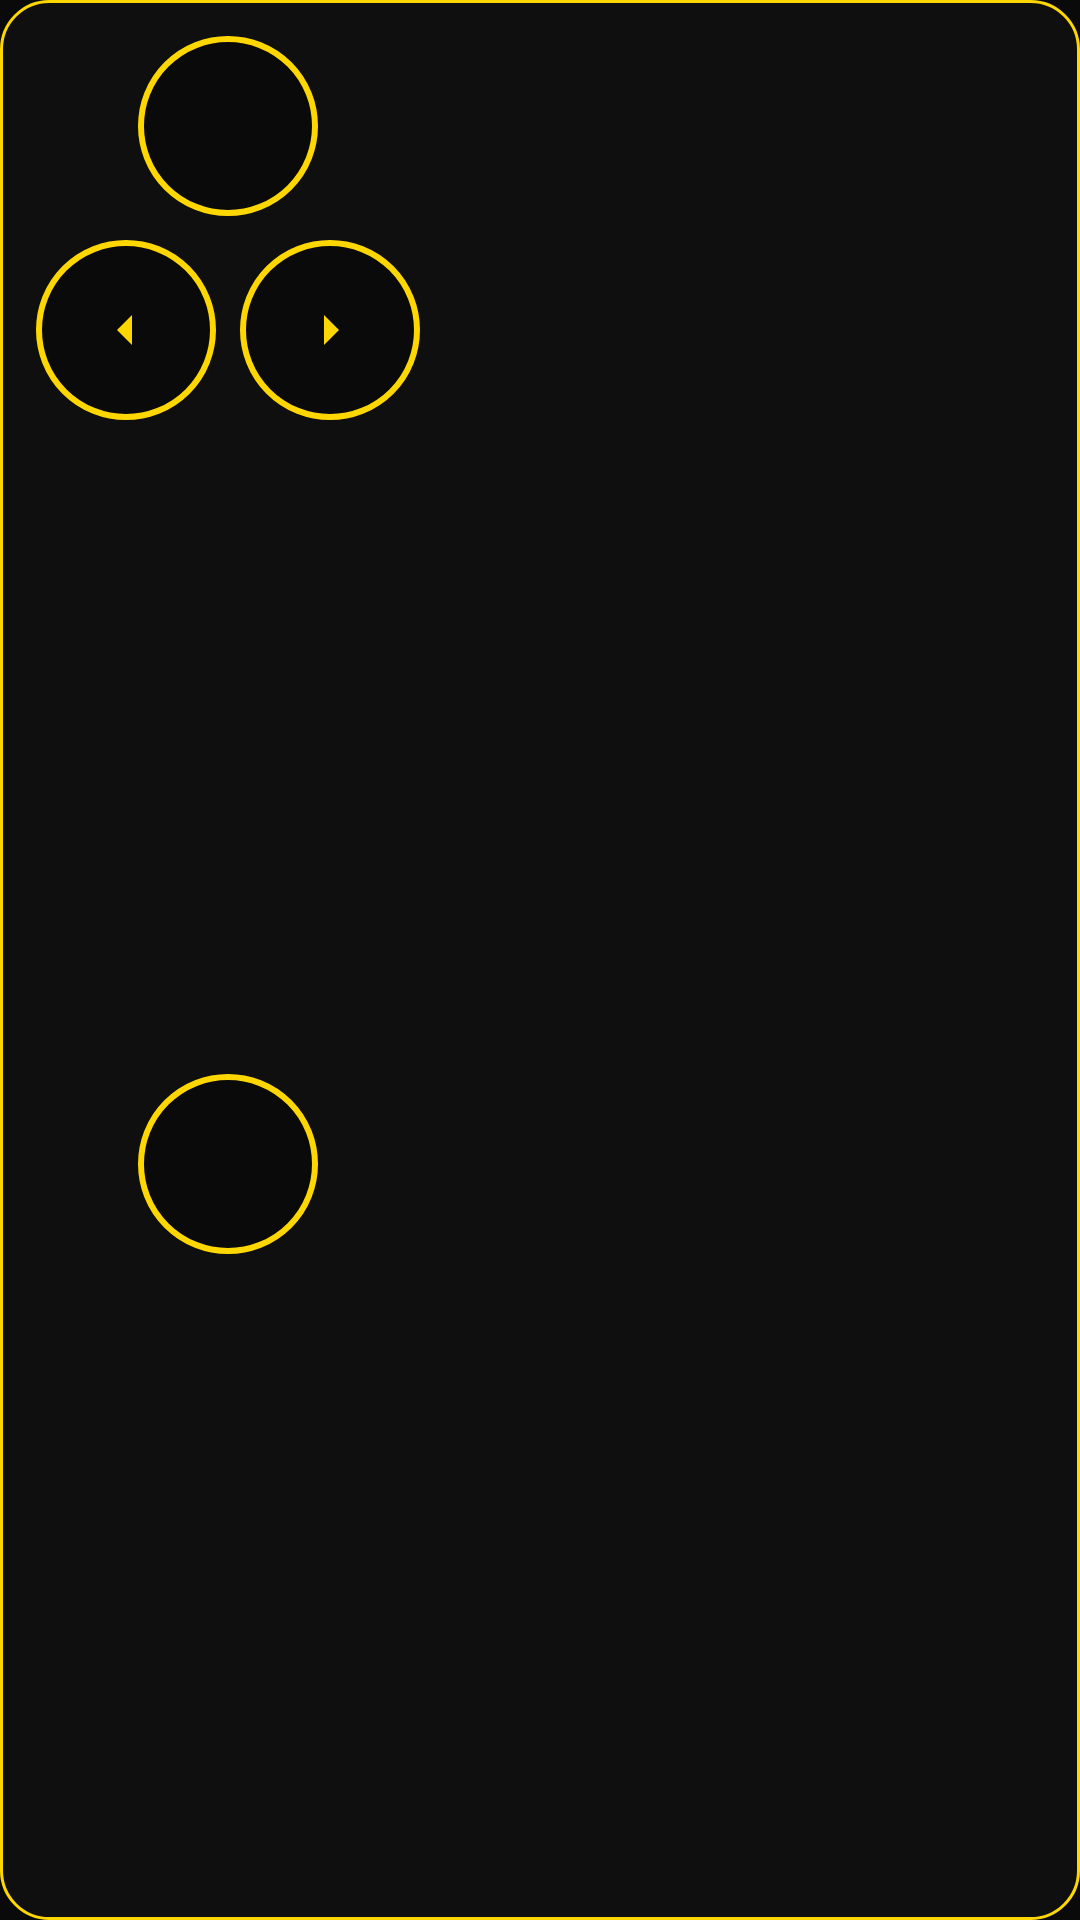

Where icons sit on this 1080px x 1920px app screen, as rect(x1, y1, x2, y2):
arrow left: rect(36, 240, 216, 420)
arrow right: rect(240, 240, 420, 420)
